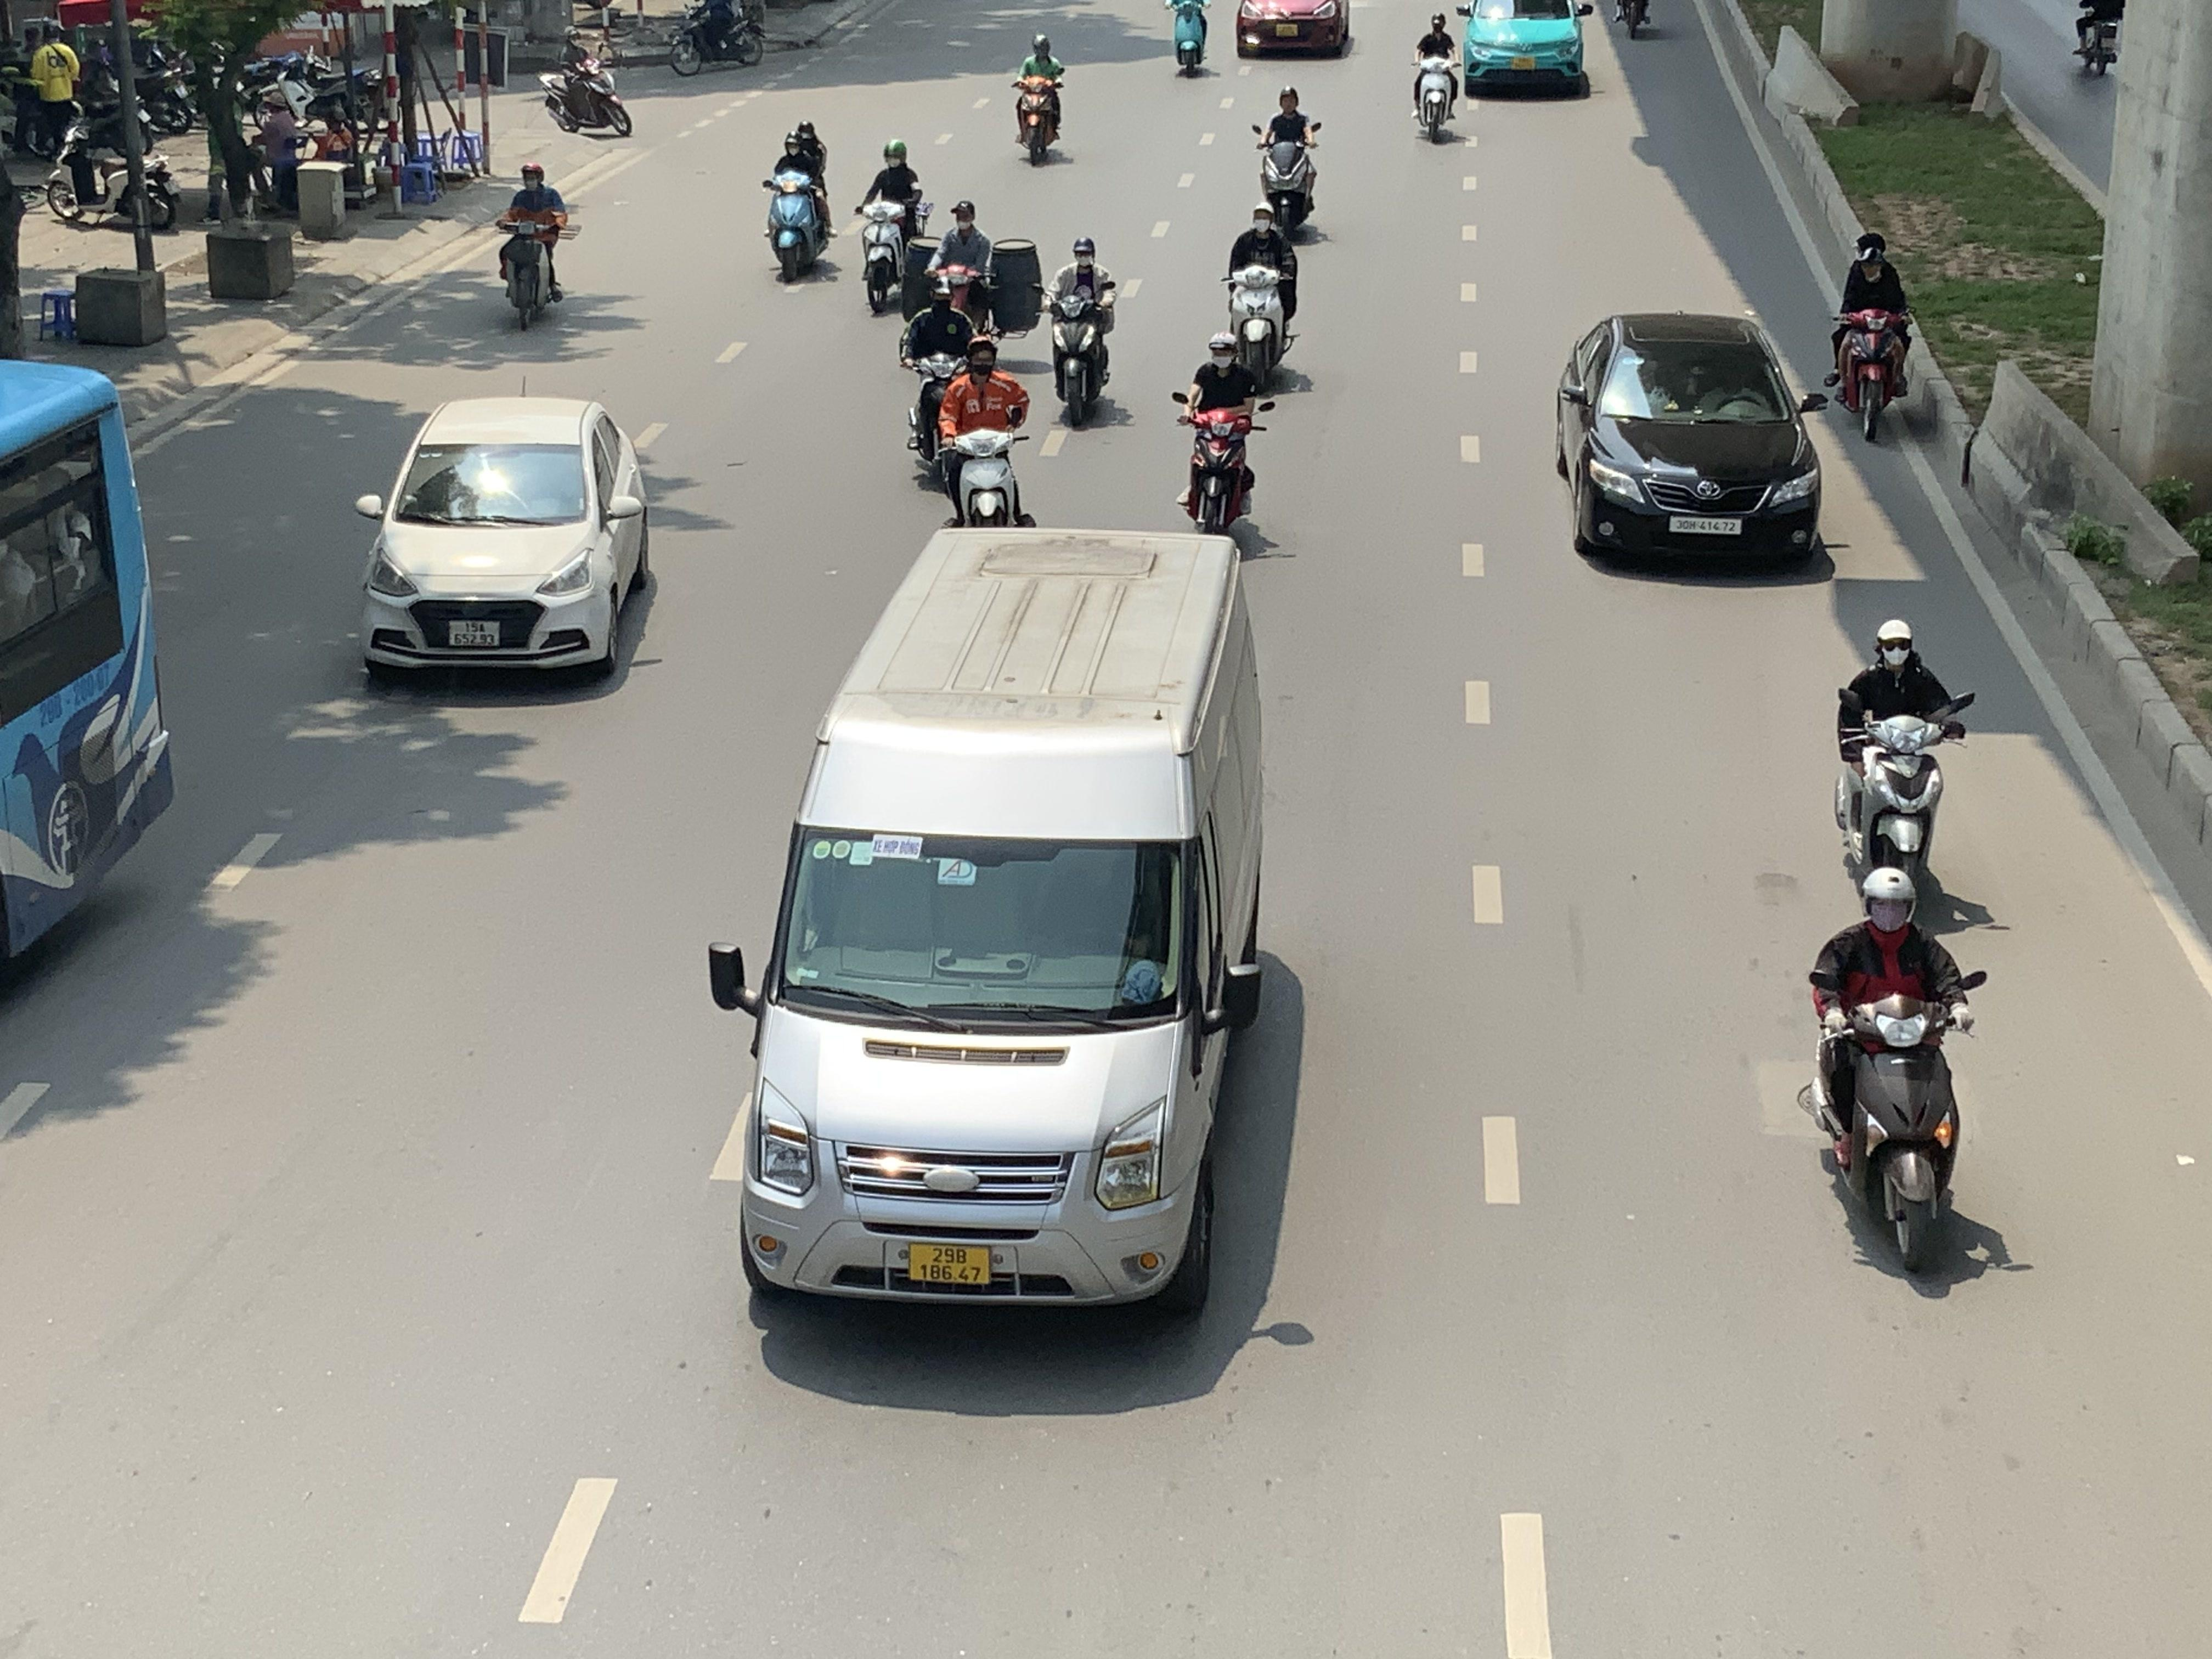BSD: (1669, 518, 1742, 535)
BSV: (907, 1244, 991, 1284), (449, 620, 500, 648)
bus: (707, 523, 1273, 1319)
car: (354, 394, 660, 685), (1552, 310, 1829, 570), (1456, 0, 1592, 99)
motorbike: (1803, 863, 1984, 1276), (1834, 617, 1970, 903), (1172, 329, 1270, 545), (934, 335, 1033, 530), (1827, 228, 1914, 443), (902, 272, 982, 490), (42, 115, 181, 228), (1221, 202, 1301, 385), (1047, 234, 1122, 429), (855, 138, 930, 315), (496, 160, 573, 331), (763, 122, 834, 286), (921, 199, 1001, 338), (1252, 85, 1322, 242), (540, 26, 632, 136), (669, 0, 766, 75), (1012, 35, 1066, 166), (1411, 14, 1461, 145), (2073, 0, 2130, 78), (1167, 0, 1211, 78)
